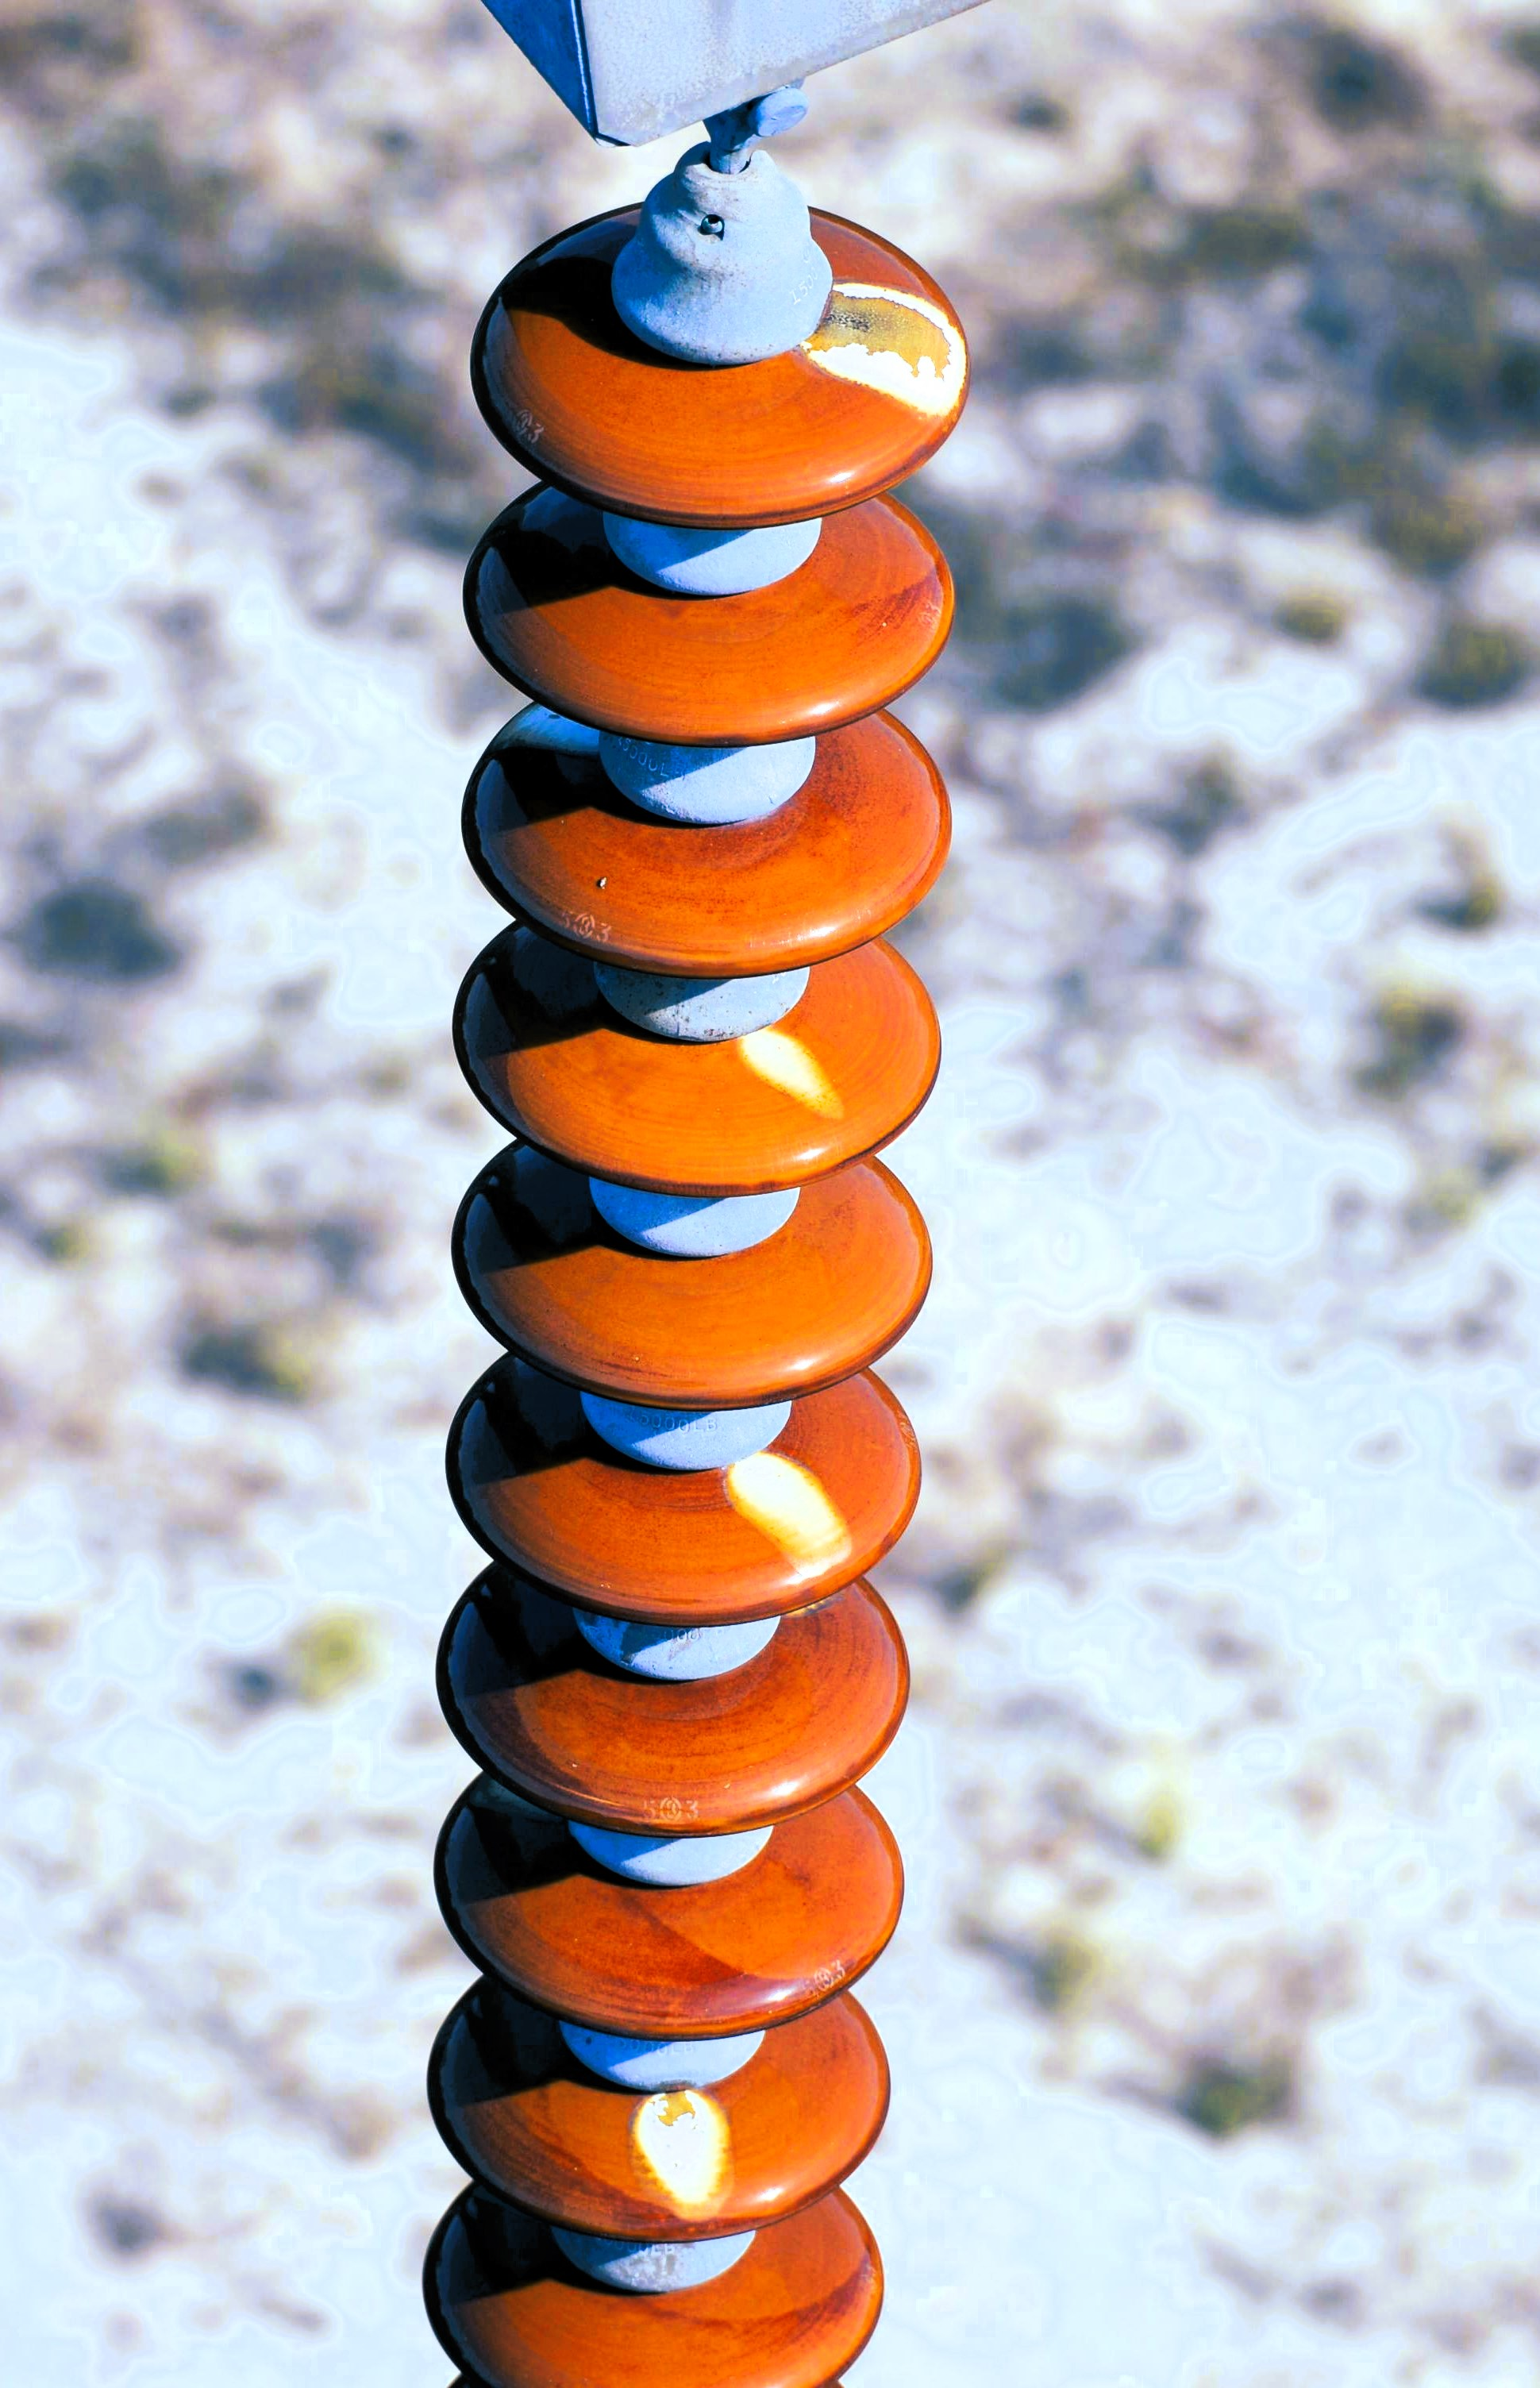Insulator flashover: (452, 172, 987, 534), (437, 917, 966, 1215), (426, 1363, 924, 1652), (418, 1975, 896, 2252)
